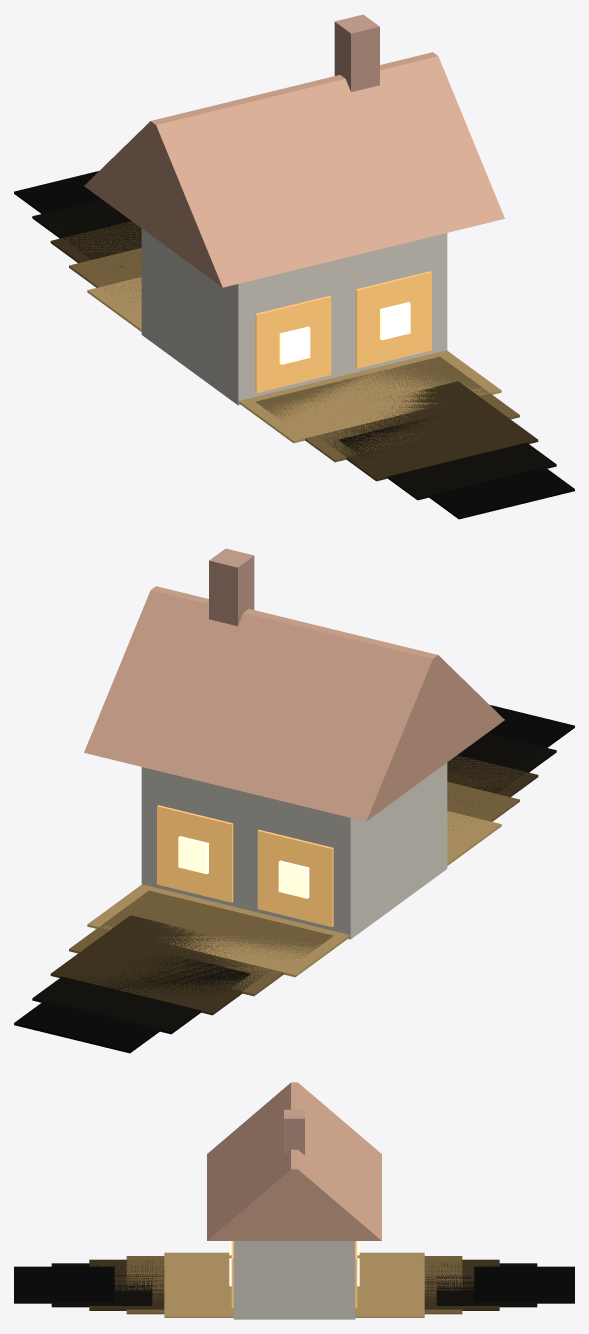
The model's file is vil_cottage_a.glb.
3 renders of one model, top to bottom at view 1: azimuth 30°, elevation 25°; view 2: azimuth 150°, elevation 25°; view 3: azimuth 270°, elevation 25°, orthographic. The views are drawn at different scales.
Parts seen in each view (by area): view 1: vil_cottage_a; view 2: vil_cottage_a; view 3: vil_cottage_a.
Part boxes in pixels (<box>): vil_cottage_a: <box>14,14,574,519</box>; vil_cottage_a: <box>14,548,574,1053</box>; vil_cottage_a: <box>14,1082,574,1319</box>.
Size of the model in its own units: 0.7344 by 0.7589 by 2.
